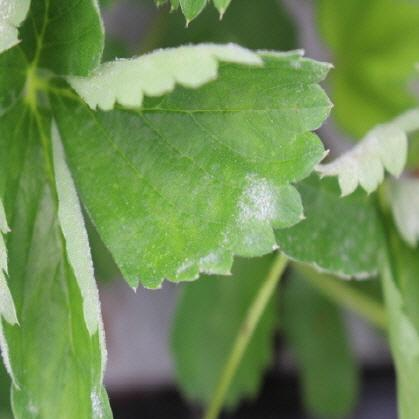Powdery Mildew Leaf: (44, 42, 338, 293), (0, 83, 115, 418), (274, 107, 418, 281), (0, 0, 107, 111)
